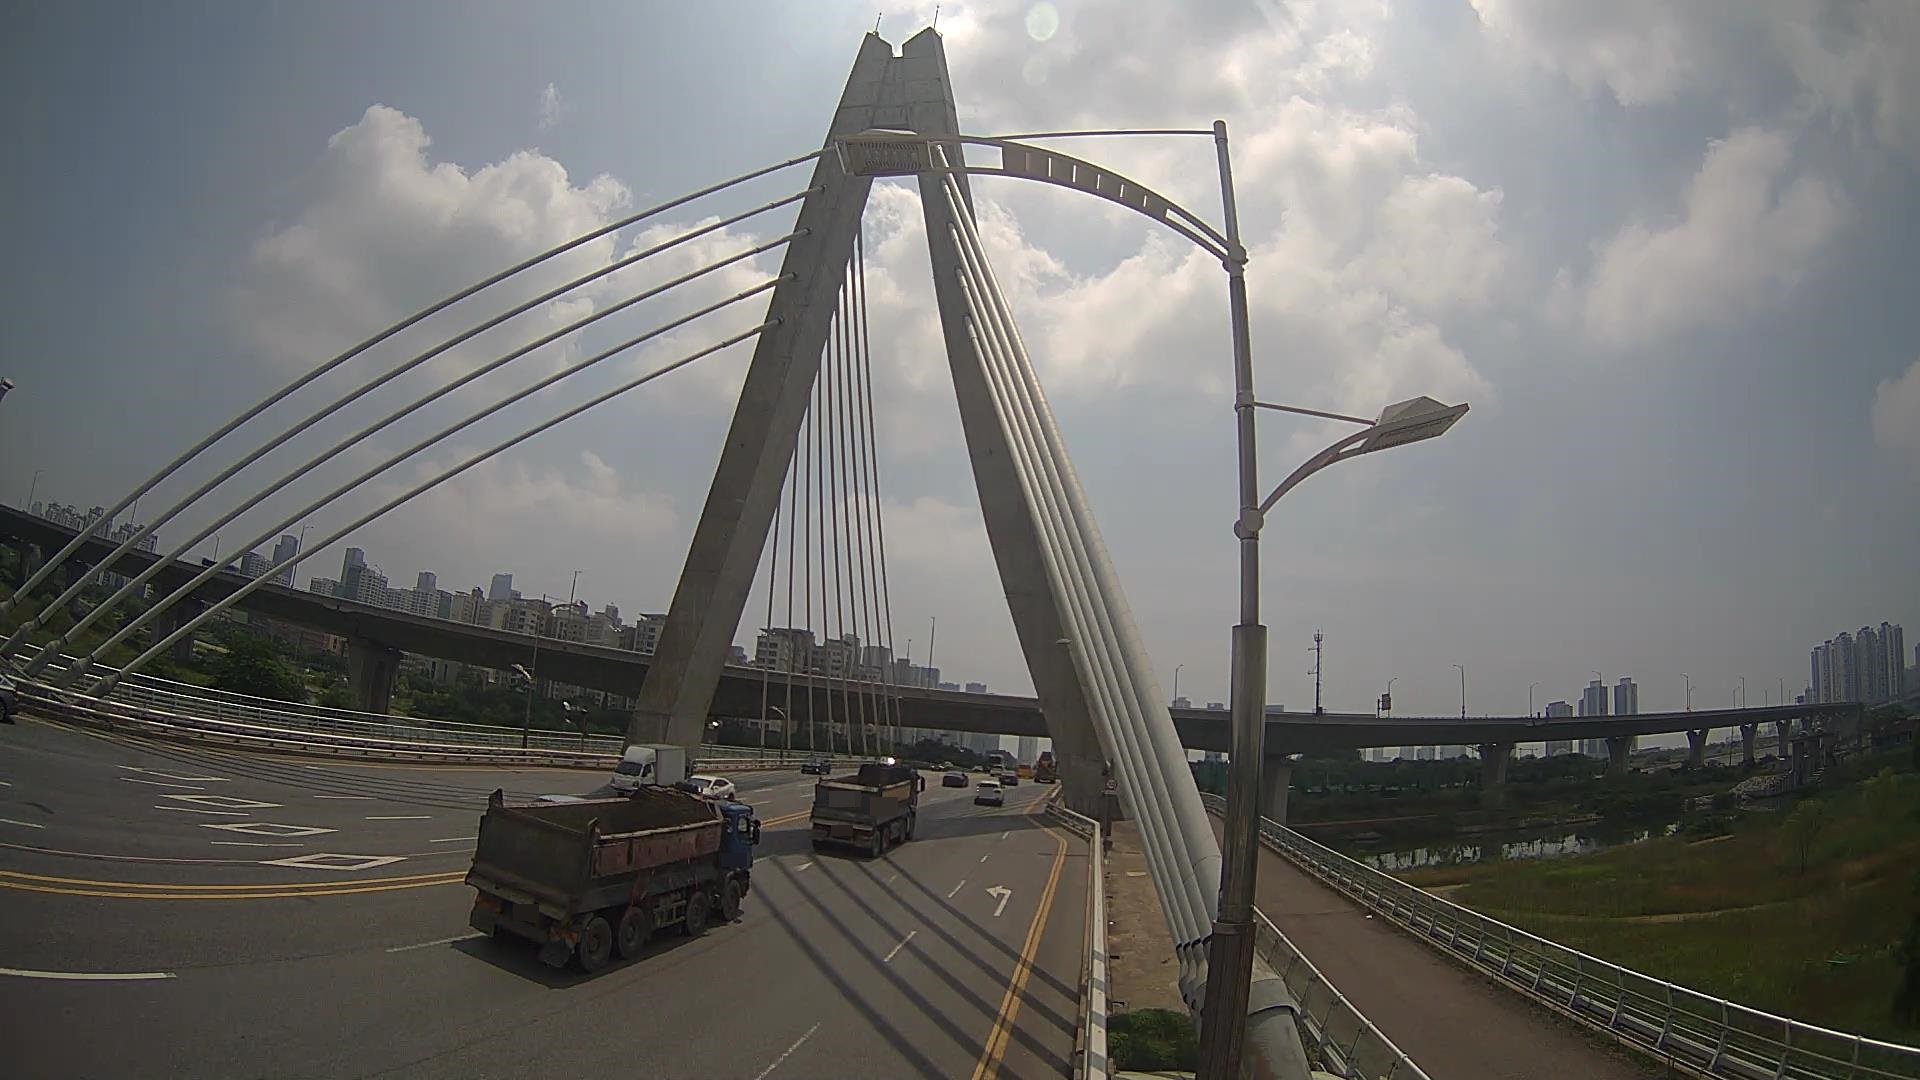정상차량: (464, 782, 761, 973)
